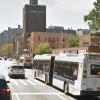buses: (31, 52, 100, 97)
